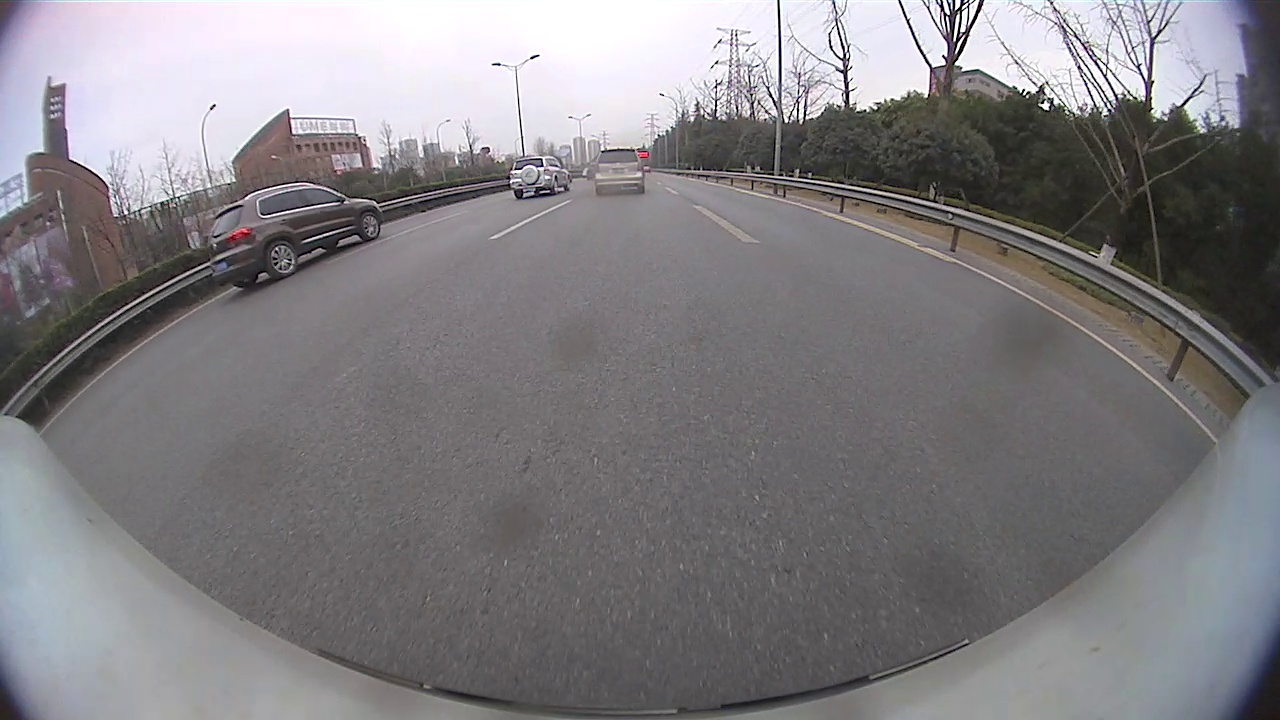car: (205, 181, 385, 289), (508, 154, 573, 200), (593, 148, 645, 196)
front: (359, 212, 381, 242)
rear: (266, 240, 298, 278)
